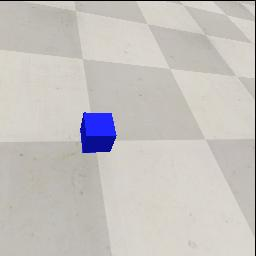box: (80, 112, 117, 153)
